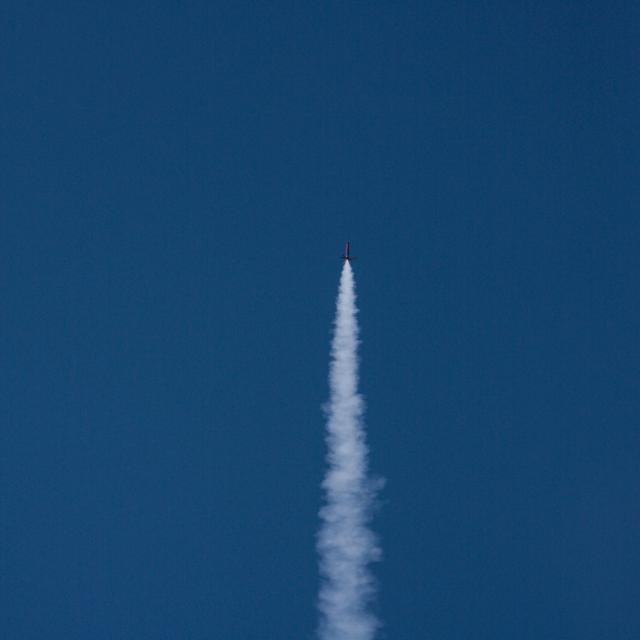Rocket: (340, 242, 358, 264)
